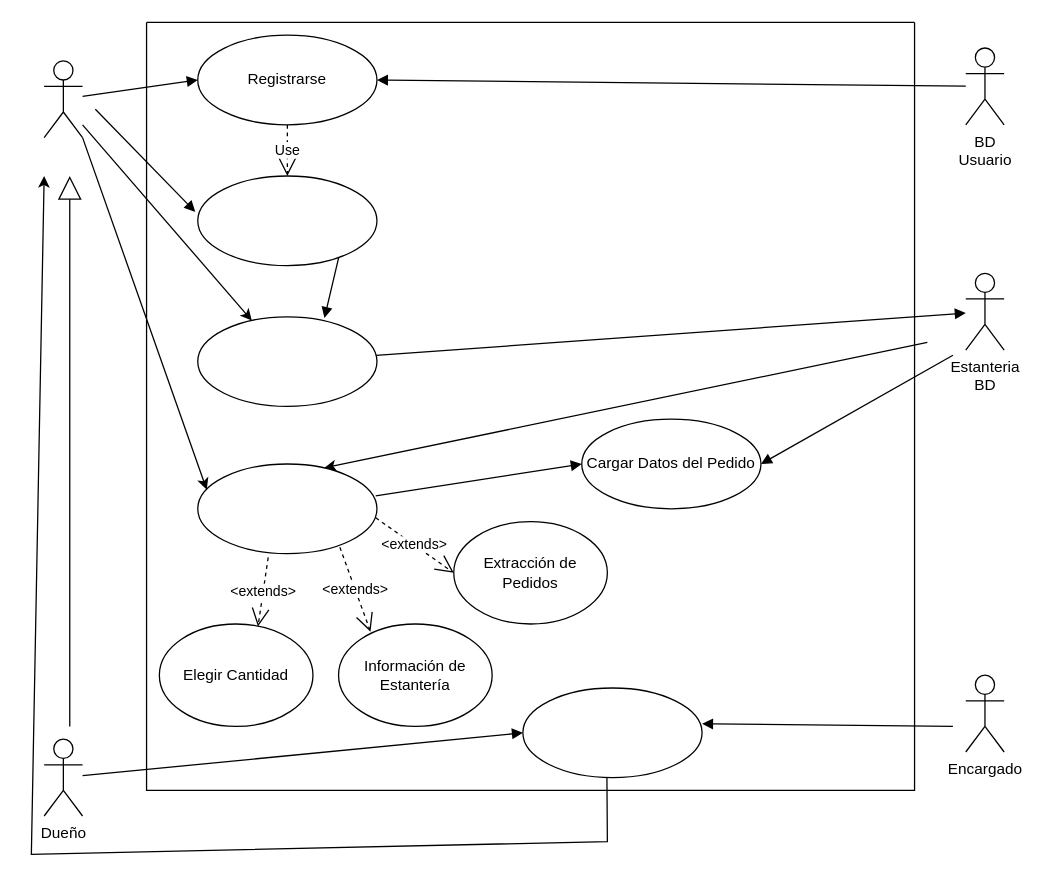
Image size: 1044x887. Some labels were removed from this diagram. Here are the shapes that lost their labels. From the top down, the centre of each, then its label:
At (x=63, y=99): "Usuario".
At (x=286, y=220): "Logeo".
At (x=286, y=361): "Ingresar Pedido".
At (x=286, y=508): "Seleccionar Pedido".
At (x=612, y=732): "Información de los Productos".
